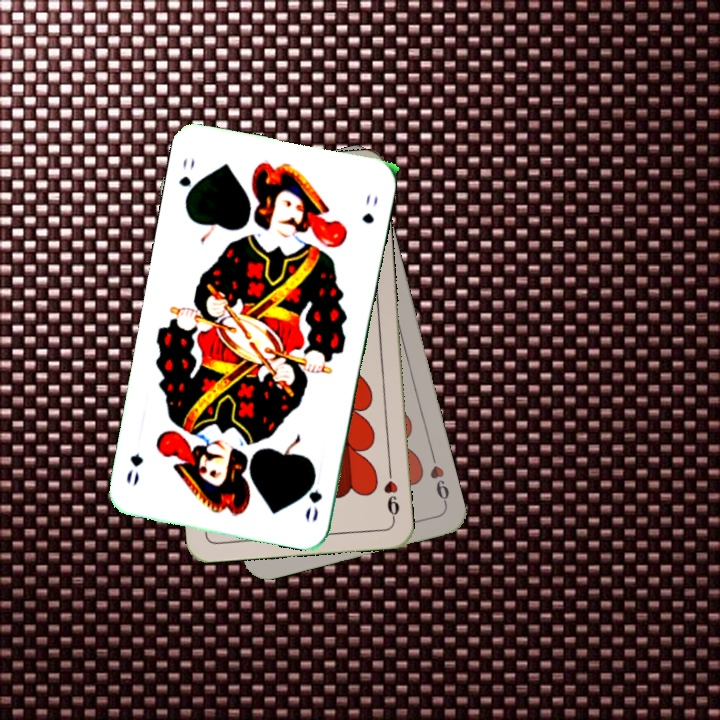GO: (301, 465, 325, 524), (175, 154, 199, 207)
H9: (425, 450, 452, 508), (379, 463, 402, 522)
